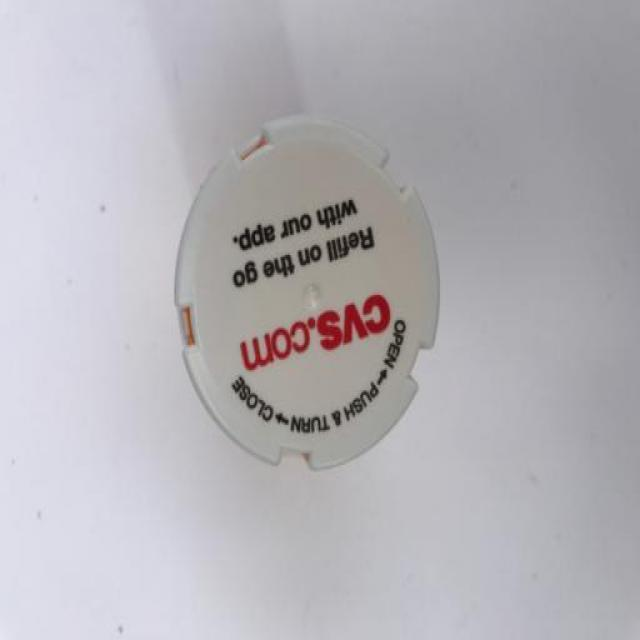Plastic: (172, 114, 439, 476)
